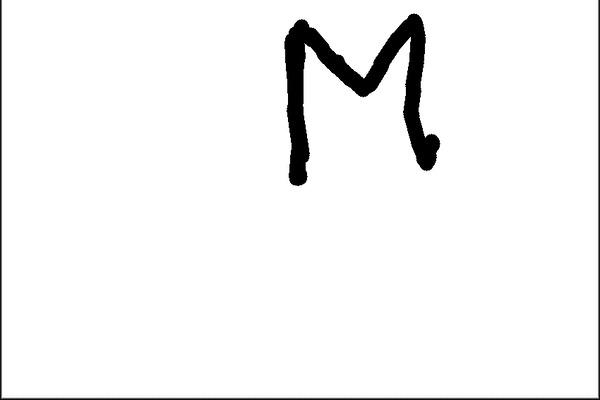M: (273, 10, 442, 183)
